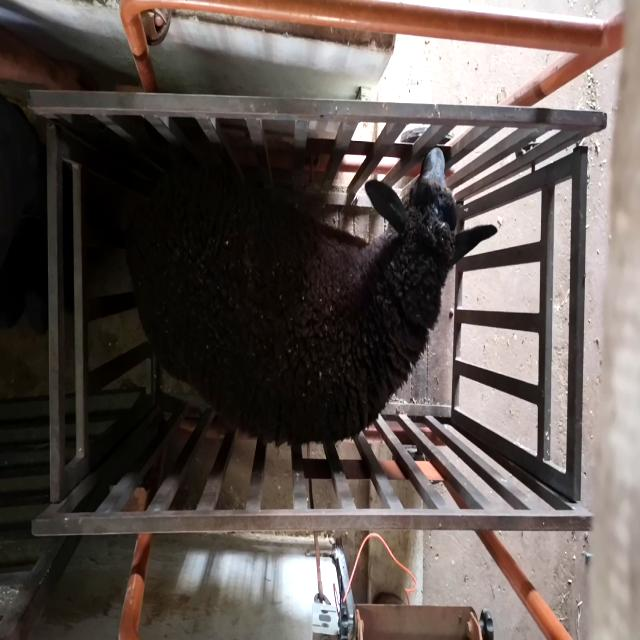sheep: (124, 147, 498, 447)
